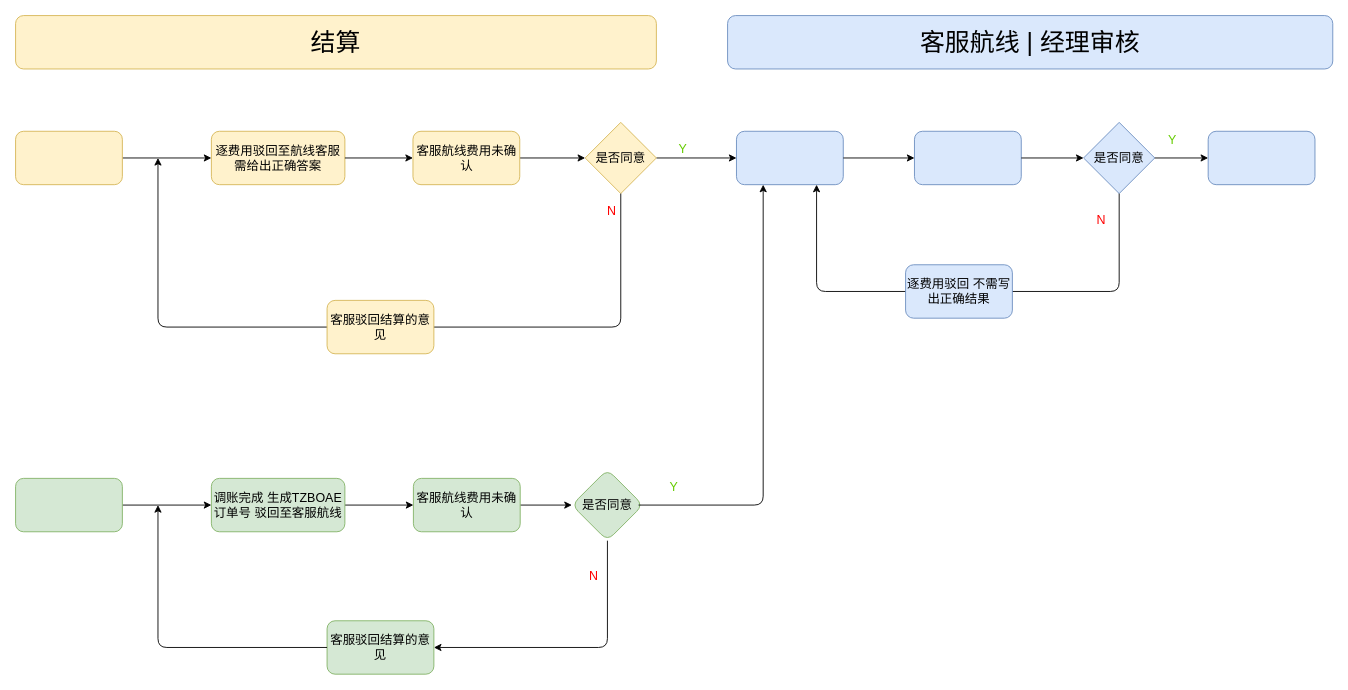
Some shapes in this 1348 by 690 pixel diagram are drawn without their labels. The centre of each missing label's shape, as x and y in pixels:
"客服航线费用确认" goes at point 789,157.
"对账" goes at point 1261,157.
"未对账 | 对账中页面" goes at point 68,157.
"经理审核页面" goes at point 967,157.
"调账页面" goes at point 68,504.
